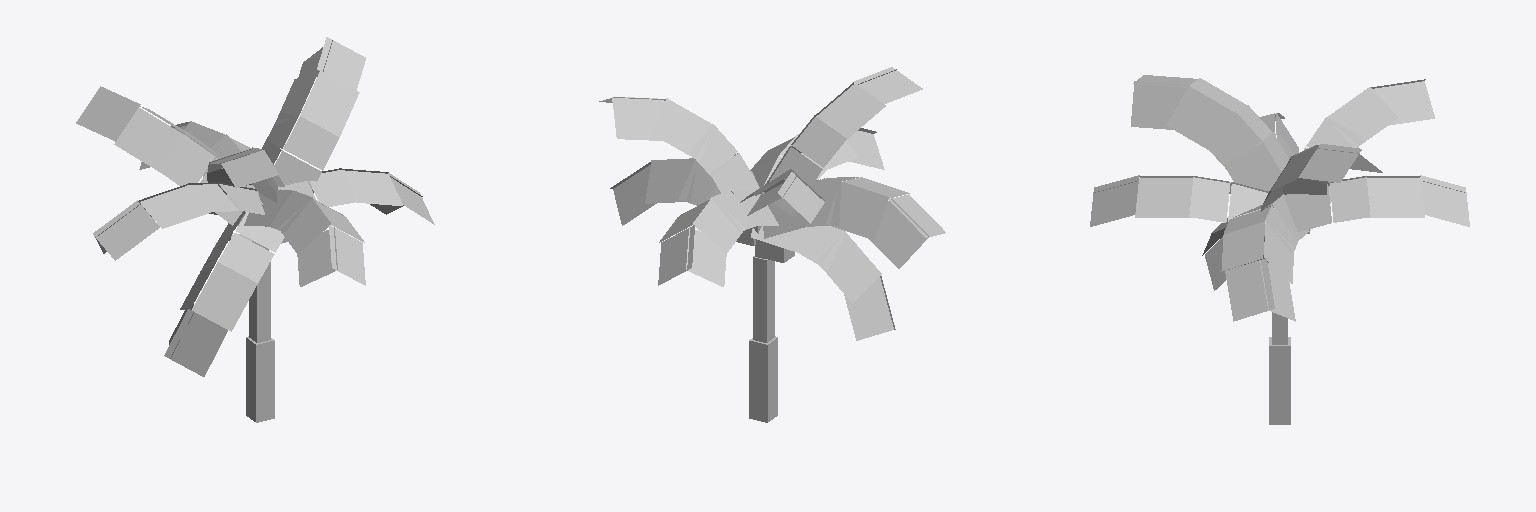
Rendered from coqueiro.obj.
3 views of the same model, side by side, from view 1: azimuth 30°, elevation 25°; view 2: azimuth 150°, elevation 25°; view 3: azimuth 270°, elevation 25° (orthographic).
Visible parts, largest first — view 1: leaf3, leaf4, leaf2, leaf1, tronco1, tronco2; view 2: leaf3, leaf1, leaf4, tronco1, leaf2, tronco2, coco; view 3: leaf3, leaf4, leaf1, leaf2, tronco1.
Boxes of the visible parts, box(x1,y1,x2,y2) form: leaf3: box(95, 40, 422, 358); leaf4: box(76, 37, 434, 376); leaf2: box(160, 116, 356, 282); leaf1: box(200, 139, 321, 252); tronco1: box(246, 336, 274, 422); tronco2: box(249, 262, 270, 342); leaf3: box(612, 69, 929, 340); leaf1: box(706, 146, 824, 253); leaf4: box(599, 67, 945, 329); tronco1: box(749, 336, 777, 422); leaf2: box(680, 117, 858, 215); tronco2: box(753, 256, 774, 342); coco: box(736, 226, 794, 262); leaf3: box(1095, 78, 1464, 321); leaf4: box(1090, 75, 1469, 321); leaf1: box(1224, 134, 1331, 241); leaf2: box(1189, 105, 1370, 233); tronco1: box(1269, 337, 1290, 424).
Size of the model in its own units: 8.65 by 8.29 by 8.82.